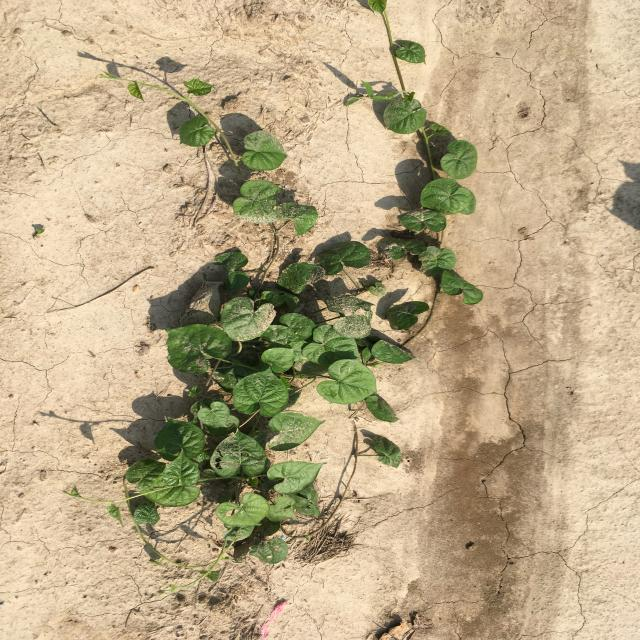MorningGlory: (63, 1, 485, 593)
